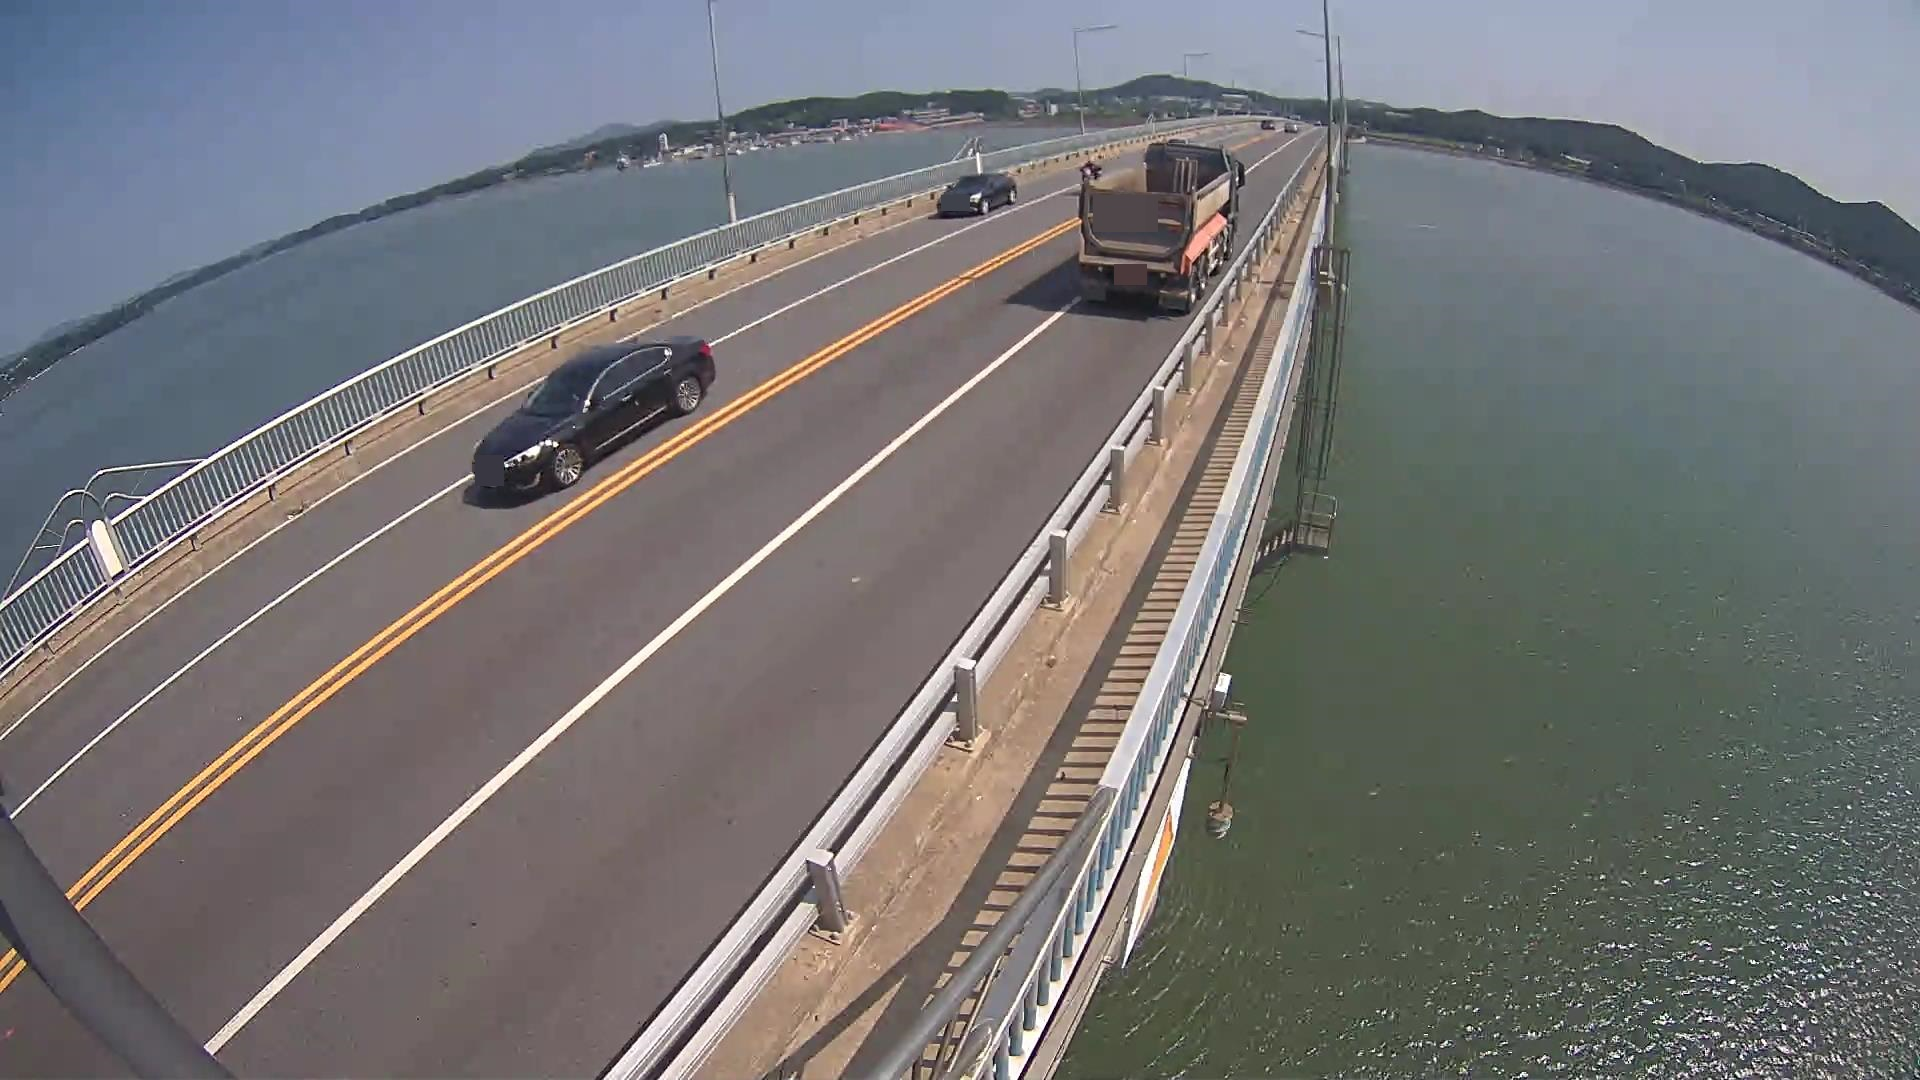정상차량: (1077, 139, 1245, 314)
